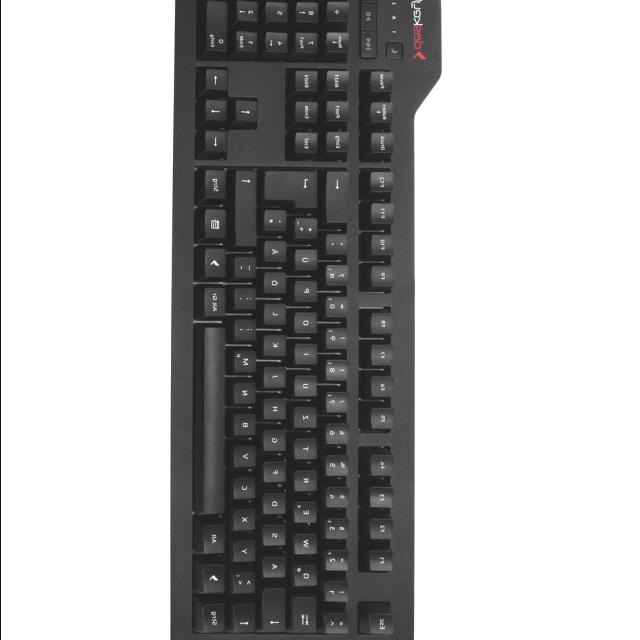0: (326, 297, 352, 321)
1: (325, 583, 351, 605)
2: (325, 550, 351, 574)
3: (325, 519, 351, 543)
4: (326, 488, 352, 510)
5: (326, 457, 352, 479)
6: (326, 425, 352, 447)
7: (326, 394, 351, 416)
8: (326, 361, 352, 383)
9: (326, 330, 352, 352)
a: (264, 558, 288, 580)
accent: (327, 236, 351, 258)
ae: (265, 242, 289, 264)
alt-left: (203, 525, 227, 557)
altgr-right: (204, 288, 228, 321)
b: (235, 416, 259, 438)
c: (235, 480, 259, 502)
caret: (326, 615, 351, 637)
comma: (236, 321, 258, 343)
d: (264, 495, 289, 517)
del: (327, 172, 352, 226)
e: (295, 504, 320, 526)
enter: (265, 172, 320, 210)
f: (265, 463, 289, 485)
g: (264, 432, 288, 454)
h: (265, 400, 289, 422)
hash: (265, 212, 289, 234)
i: (297, 345, 321, 367)
j: (265, 369, 289, 391)
k: (265, 337, 289, 359)
keyboard: (177, 0, 416, 640)
l: (265, 305, 289, 327)
less: (232, 574, 258, 596)
m: (234, 352, 258, 376)
minus: (235, 258, 259, 280)
n: (235, 383, 259, 407)
o: (296, 314, 320, 336)
oe: (265, 274, 289, 296)
p: (296, 282, 320, 304)
plus: (295, 220, 320, 242)
point: (236, 290, 258, 312)
q: (295, 567, 321, 589)
r: (296, 472, 320, 494)
s: (264, 527, 288, 549)
shift-left: (235, 605, 257, 636)
shift-lock: (263, 590, 288, 634)
shift-right: (236, 172, 258, 249)
space: (204, 329, 226, 517)
ss: (326, 266, 352, 288)
strg-left: (202, 604, 228, 636)
strg-right: (205, 170, 229, 202)
t: (295, 440, 320, 462)
tab: (294, 598, 319, 635)
u: (296, 377, 320, 399)
ue: (296, 251, 320, 273)
v: (235, 448, 259, 470)
w: (295, 535, 321, 557)
x: (235, 511, 257, 533)
y: (234, 542, 258, 564)
z: (296, 409, 320, 431)
